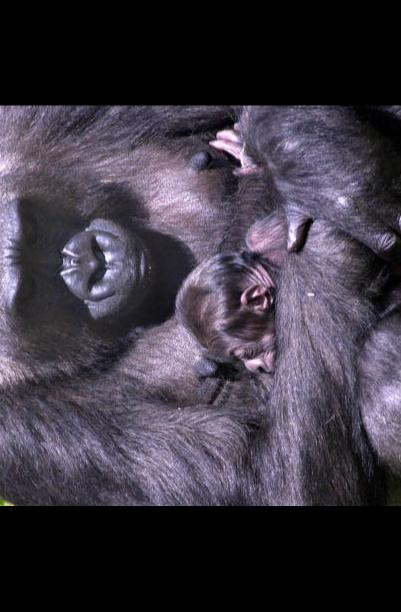gorille_Autres: (0, 105, 218, 496)
